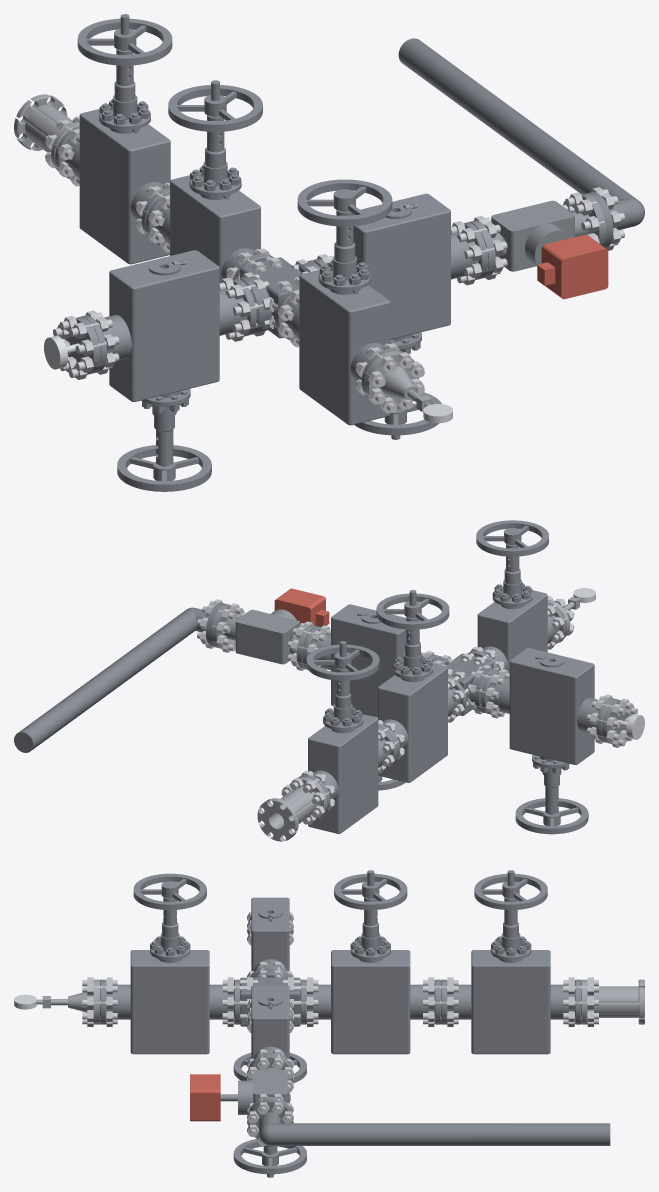
The model's file is UC-PRODTREE.glb.
3 renders of one model, top to bottom at view 1: azimuth 30°, elevation 25°; view 2: azimuth 150°, elevation 25°; view 3: azimuth 270°, elevation 25°, orthographic. The views are drawn at different scales.
Visible parts, largest first — view 1: UC-PRODTREE-KILLWING, UC-PRODTREE-LMV, UC-PRODTREE-SWAB, UC-PRODTREE-WINGVALVE, UC-PRODTREE-STUDS, UC-PRODTREE-UMV, UC-PRODTREE-FLOWLINE, UC-PRODTREE-CHOKE, UC-PRODTREE-ACTUATOR, UC-PRODTREE-TUBINGHEADADAPTER, UC-PRODTREE-FLOWCROSS, UC-PRODTREE-TREECAP (+1 smaller); view 2: UC-PRODTREE-KILLWING, UC-PRODTREE-LMV, UC-PRODTREE-UMV, UC-PRODTREE-STUDS, UC-PRODTREE-SWAB, UC-PRODTREE-FLOWLINE, UC-PRODTREE-WINGVALVE, UC-PRODTREE-CHOKE, UC-PRODTREE-TUBINGHEADADAPTER, UC-PRODTREE-ACTUATOR, UC-PRODTREE-FLOWCROSS, UC-PRODTREE-GAUGE; view 3: UC-PRODTREE-LMV, UC-PRODTREE-SWAB, UC-PRODTREE-UMV, UC-PRODTREE-FLOWLINE, UC-PRODTREE-STUDS, UC-PRODTREE-WINGVALVE, UC-PRODTREE-KILLWING, UC-PRODTREE-TUBINGHEADADAPTER, UC-PRODTREE-CHOKE, UC-PRODTREE-ACTUATOR, UC-PRODTREE-FLOWCROSS, UC-PRODTREE-TREECAP.
Boxes of the visible parts, <box> form: UC-PRODTREE-KILLWING: <box>64,250,256,491</box>; UC-PRODTREE-LMV: <box>55,14,172,264</box>; UC-PRODTREE-SWAB: <box>275,179,403,425</box>; UC-PRODTREE-WINGVALVE: <box>310,193,488,439</box>; UC-PRODTREE-STUDS: <box>45,116,624,413</box>; UC-PRODTREE-UMV: <box>145,80,274,282</box>; UC-PRODTREE-FLOWLINE: <box>398,38,644,247</box>; UC-PRODTREE-CHOKE: <box>467,193,606,278</box>; UC-PRODTREE-ACTUATOR: <box>537,234,608,299</box>; UC-PRODTREE-TUBINGHEADADAPTER: <box>14,94,79,172</box>; UC-PRODTREE-FLOWCROSS: <box>237,257,320,338</box>; UC-PRODTREE-TREECAP: <box>365,351,432,411</box>; UC-PRODTREE-KILLWING: <box>480,648,628,834</box>; UC-PRODTREE-LMV: <box>298,641,396,833</box>; UC-PRODTREE-UMV: <box>376,590,466,782</box>; UC-PRODTREE-STUDS: <box>197,596,637,824</box>; UC-PRODTREE-SWAB: <box>467,520,566,673</box>; UC-PRODTREE-FLOWLINE: <box>14,603,226,752</box>; UC-PRODTREE-WINGVALVE: <box>302,604,439,790</box>; UC-PRODTREE-CHOKE: <box>211,604,318,669</box>; UC-PRODTREE-TUBINGHEADADAPTER: <box>257,777,327,841</box>; UC-PRODTREE-ACTUATOR: <box>274,588,329,626</box>; UC-PRODTREE-FLOWCROSS: <box>432,653,495,715</box>; UC-PRODTREE-GAUGE: <box>573,588,644,739</box>; UC-PRODTREE-LMV: <box>441,870,581,1054</box>; UC-PRODTREE-SWAB: <box>100,873,240,1054</box>; UC-PRODTREE-UMV: <box>300,870,440,1054</box>; UC-PRODTREE-FLOWLINE: <box>248,1099,610,1145</box>; UC-PRODTREE-STUDS: <box>82,912,598,1146</box>; UC-PRODTREE-WINGVALVE: <box>233,985,306,1177</box>; UC-PRODTREE-KILLWING: <box>233,897,306,1083</box>; UC-PRODTREE-TUBINGHEADADAPTER: <box>581,979,644,1024</box>; UC-PRODTREE-CHOKE: <box>220,1055,292,1114</box>; UC-PRODTREE-ACTUATOR: <box>190,1074,220,1121</box>; UC-PRODTREE-FLOWCROSS: <box>240,968,300,1026</box>; UC-PRODTREE-TREECAP: <box>36,979,99,1024</box>.
Size of the model in its own units: 2.33 by 1.27 by 2.78.
